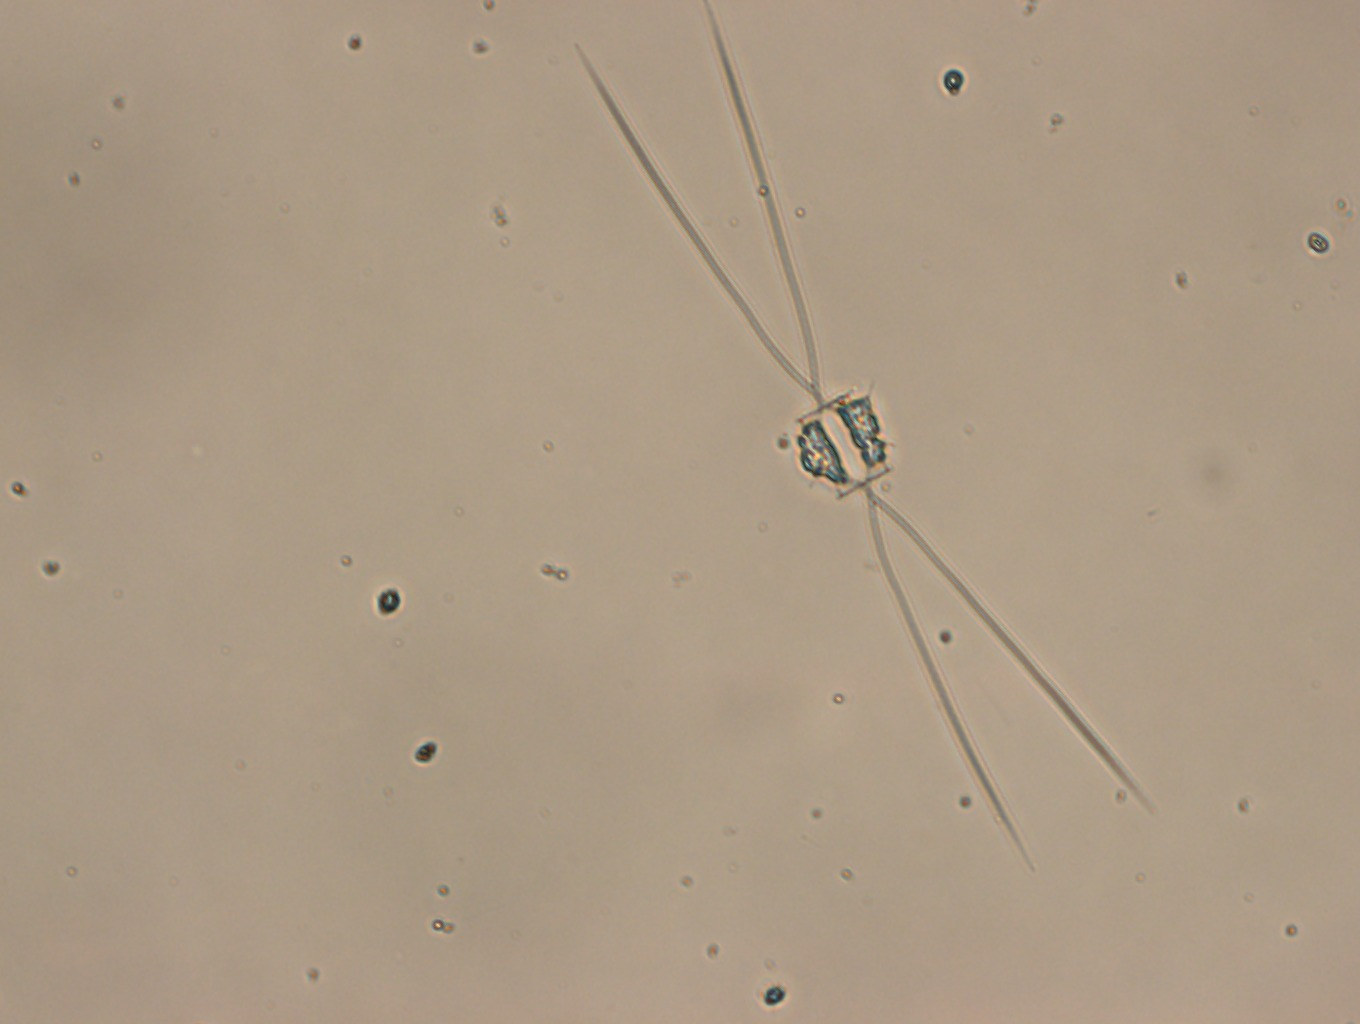chaetoceros: (558, 1, 1177, 881)
